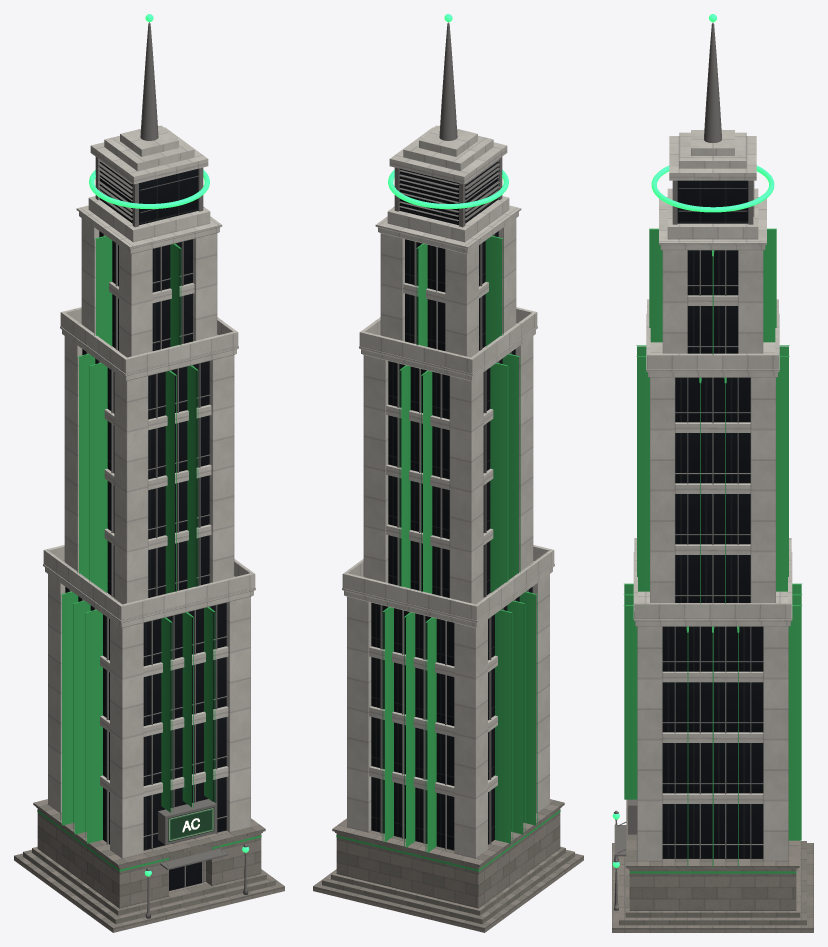
Rendered from s23-avatar-chat.glb.
The picture shows the model from 3 angles, left to right: view 1: azimuth 30°, elevation 25°; view 2: azimuth 150°, elevation 25°; view 3: azimuth 270°, elevation 25°; orthographic projection.
Visible parts, largest first — view 1: Landmark · Avatar.Chat (Series 23); view 2: Landmark · Avatar.Chat (Series 23); view 3: Landmark · Avatar.Chat (Series 23).
Part boxes in pixels (x1,y1,x2,y2): Landmark · Avatar.Chat (Series 23): [14, 14, 284, 932]; Landmark · Avatar.Chat (Series 23): [313, 14, 583, 932]; Landmark · Avatar.Chat (Series 23): [612, 14, 813, 932].
Size of the model in its own units: 12 by 57.5 by 12.
7 materials, 4 textured.
